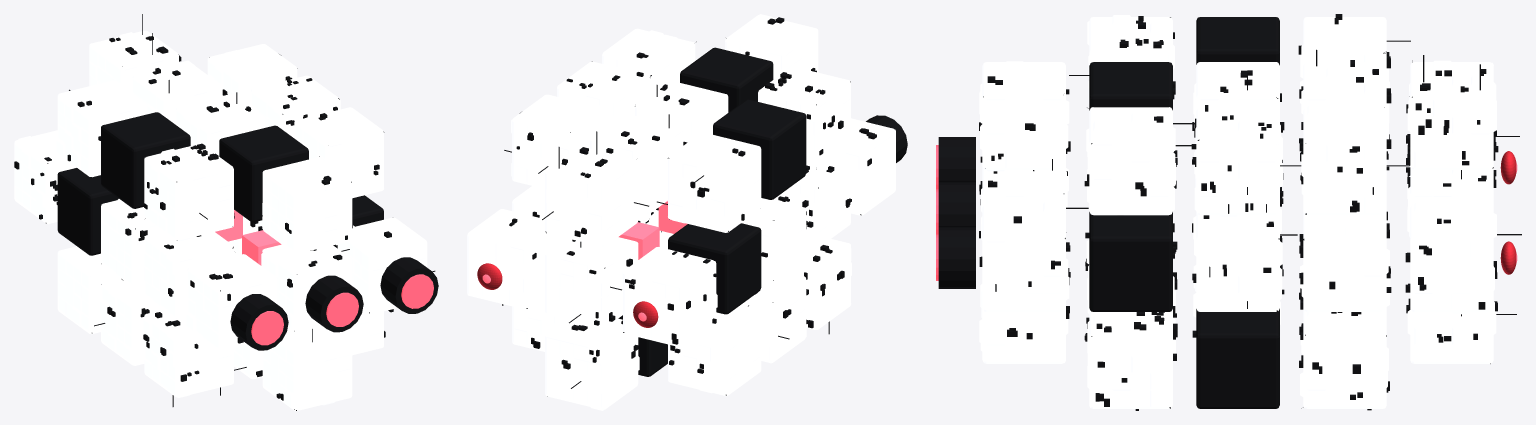
The model's file is nyx_cruiser.glb.
The picture shows the model from 3 angles, left to right: view 1: azimuth 30°, elevation 25°; view 2: azimuth 150°, elevation 25°; view 3: azimuth 270°, elevation 25°; orthographic projection. The views are drawn at different scales.
Visible parts, largest first — view 1: nyx_cruiser; view 2: nyx_cruiser; view 3: nyx_cruiser.
Part boxes in pixels (x1,y1,x2,y2): nyx_cruiser: (14,14,438,410); nyx_cruiser: (467,14,907,410); nyx_cruiser: (936,14,1521,410).
Size of the model in its own units: 5.78 by 6.09 by 10.08.
